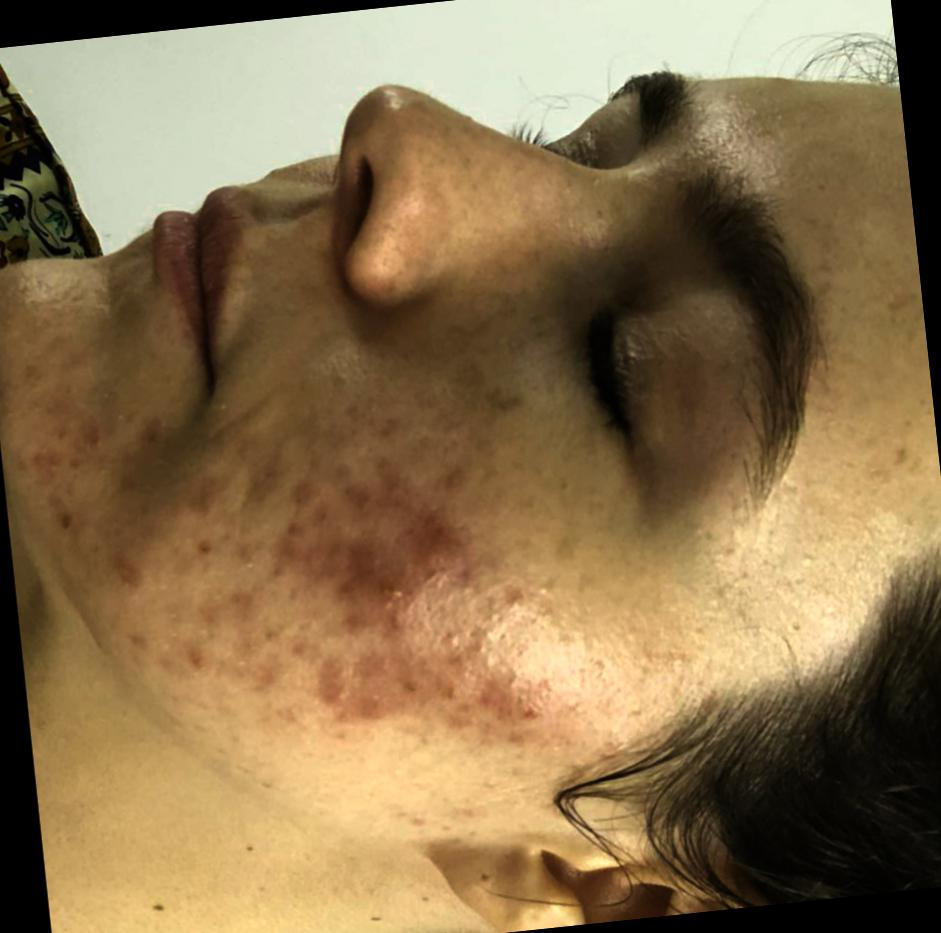Acne: (178, 450, 470, 635), (302, 618, 574, 780), (36, 390, 160, 522), (510, 579, 533, 594)
